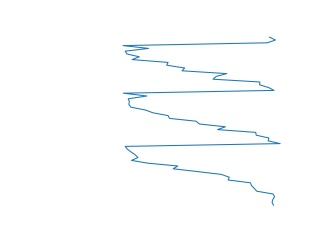distributaryMouthBar: (120, 35, 284, 208)
